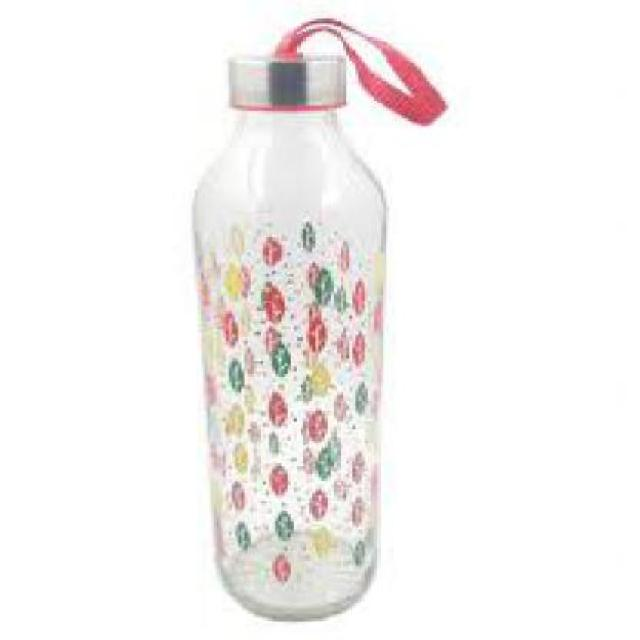Drinking: (176, 28, 390, 620)
